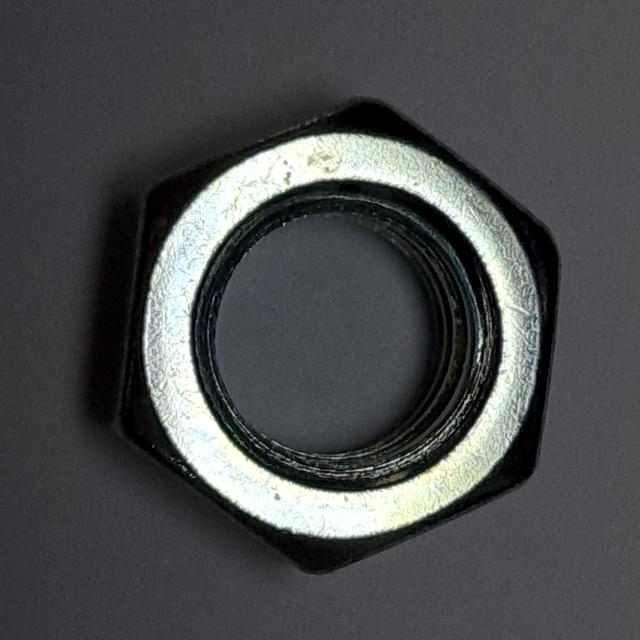Excellent: (102, 79, 574, 590)
